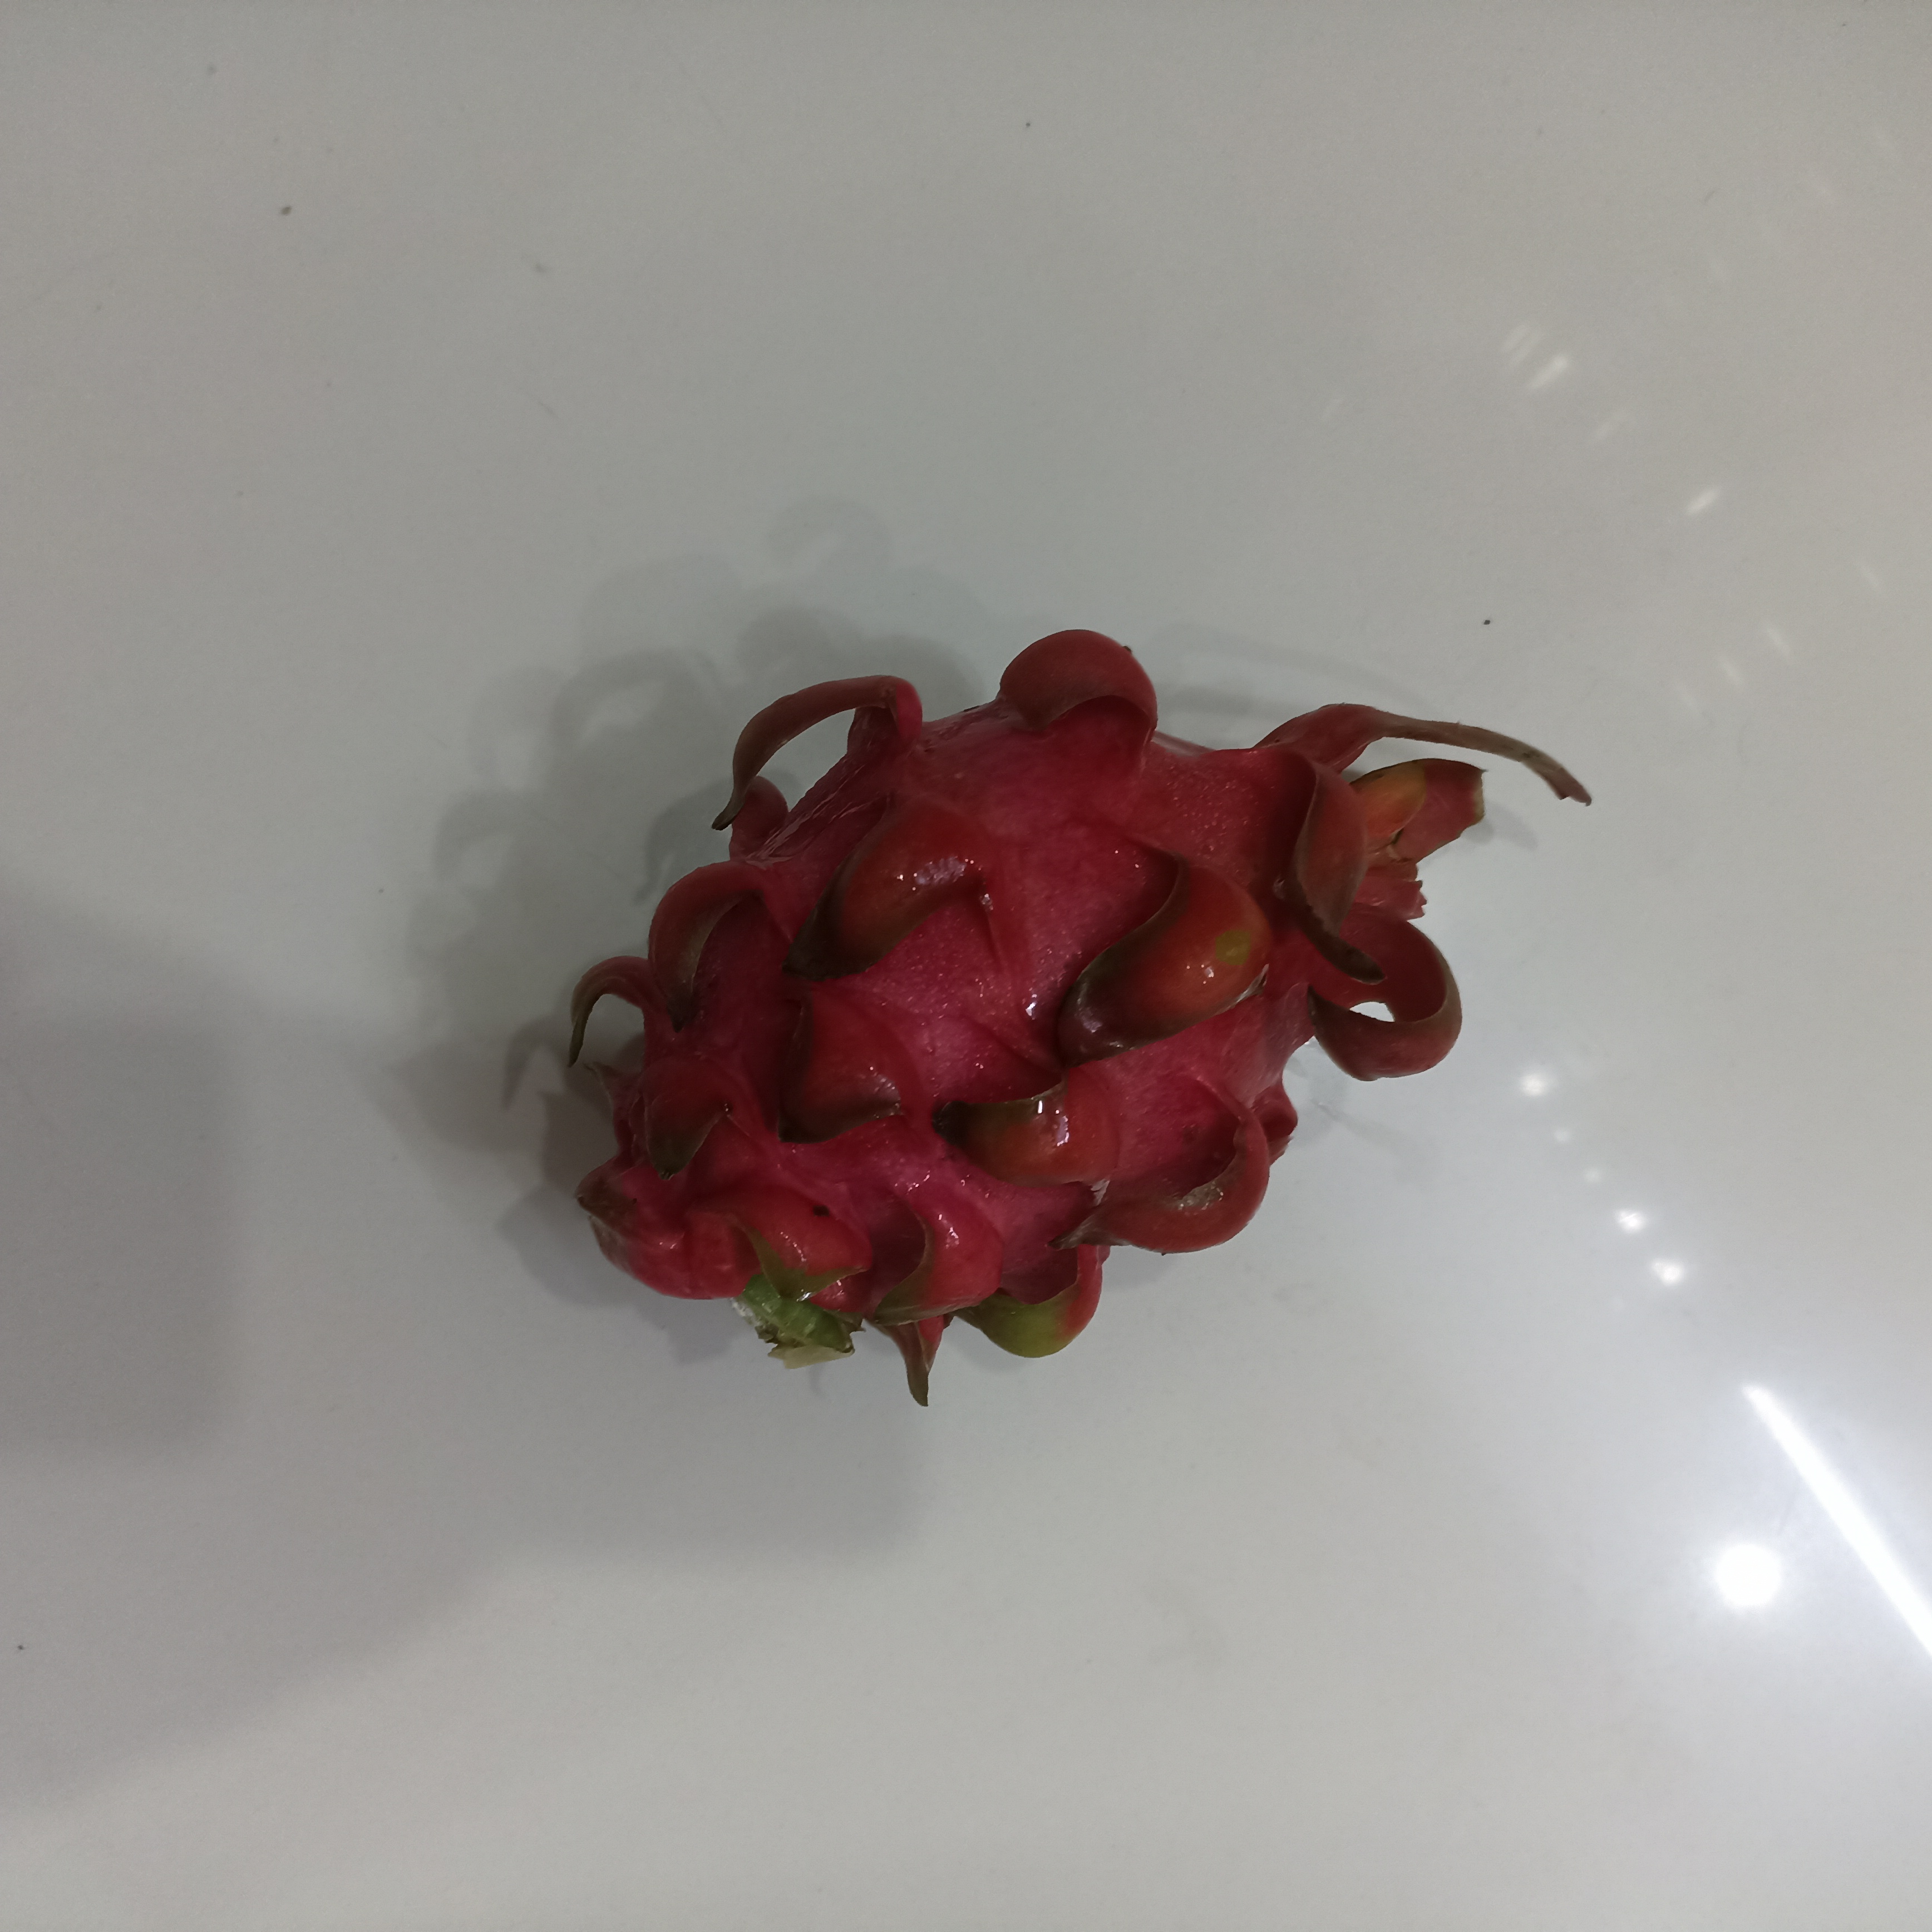Thanh long: (566, 676, 1456, 1345)
